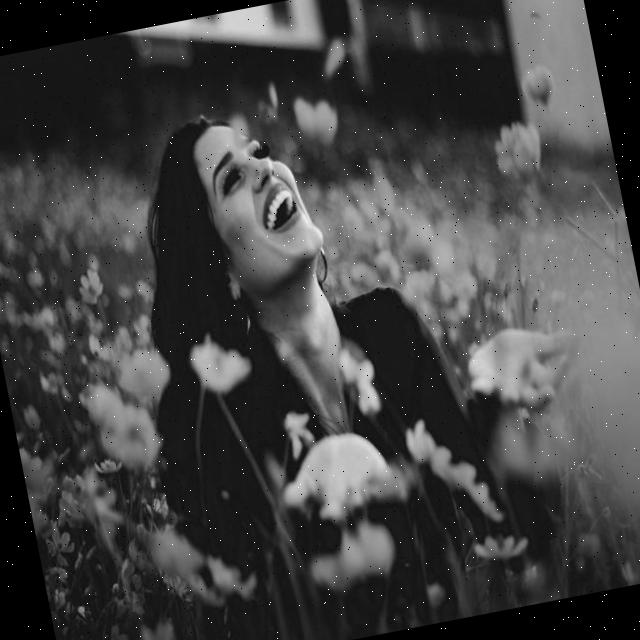Happiness: (188, 112, 332, 304)
